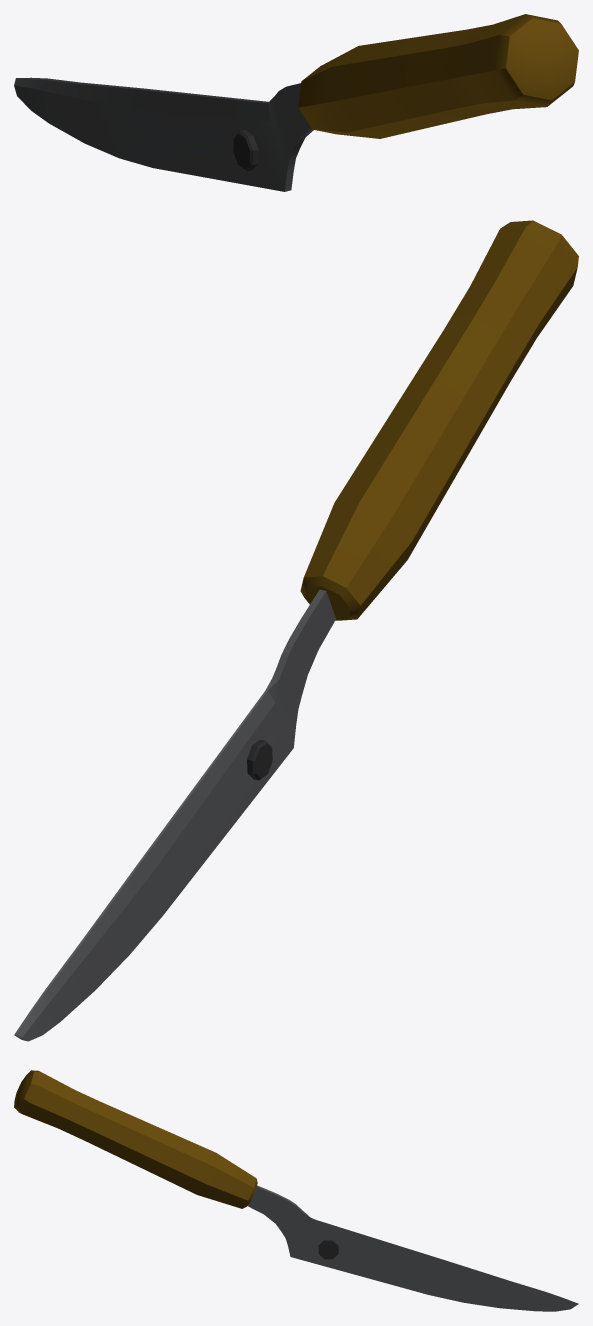
File: TijeraIzqRota.fbx
3 views of the same model, one above another, from view 1: azimuth 30°, elevation 25°; view 2: azimuth 150°, elevation 25°; view 3: azimuth 270°, elevation 25° (orthographic). The views are drawn at different scales.
Parts seen in each view (by area): view 1: TijeraRotaIzq; view 2: TijeraRotaIzq; view 3: TijeraRotaIzq.
Boxes of the visible parts, x1,y1,x2,y2 form: TijeraRotaIzq: [14, 14, 578, 191]; TijeraRotaIzq: [14, 220, 578, 1041]; TijeraRotaIzq: [14, 1070, 578, 1311].
Size of the model in its own units: 5.41 by 28.5 by 61.05.
